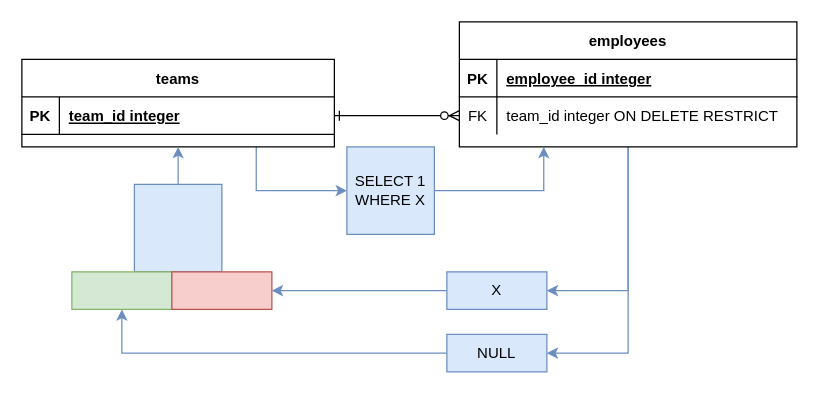
Image size: 819x394. Some labels were removed from this diagram. The centre of each missing label's shape, as x and y in pixels:
"ABORT" goes at point 221,290.
"COMMIT" goes at point 121,290.
"DELETE X" goes at point 177,227.
